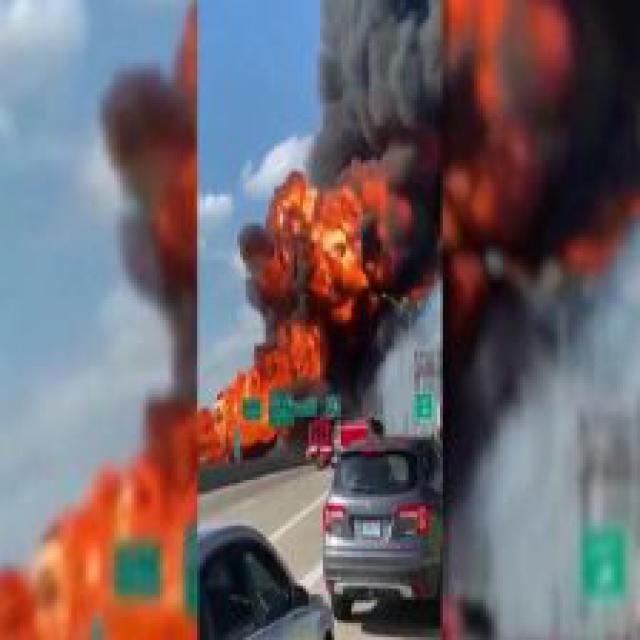fire: (200, 128, 440, 463), (3, 400, 203, 637)
